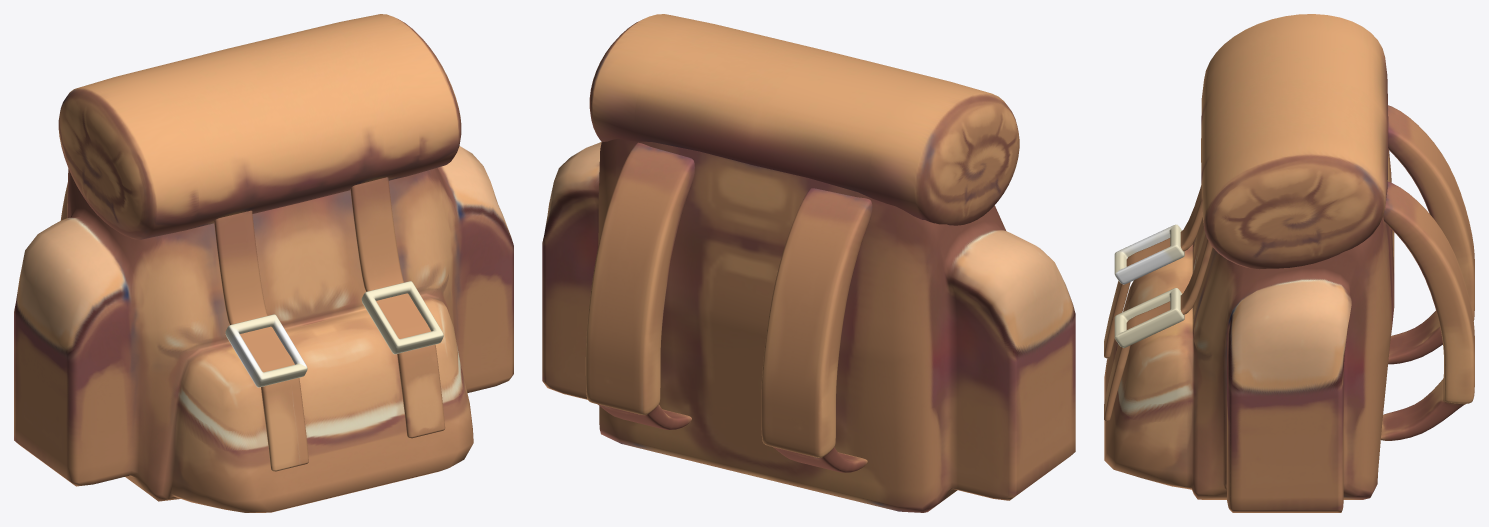
File: BackPack_1.fbx
The picture shows the model from 3 angles, left to right: view 1: azimuth 30°, elevation 25°; view 2: azimuth 150°, elevation 25°; view 3: azimuth 270°, elevation 25°; orthographic projection. The views are drawn at different scales.
Visible parts, largest first — view 1: BackPack; view 2: BackPack; view 3: BackPack.
Boxes of the visible parts, x1,y1,x2,y2 form: BackPack: [14, 14, 513, 512]; BackPack: [542, 14, 1075, 512]; BackPack: [1104, 14, 1474, 512].
Bounding box in the file's own units: 97.83 × 77.55 × 74.47.
